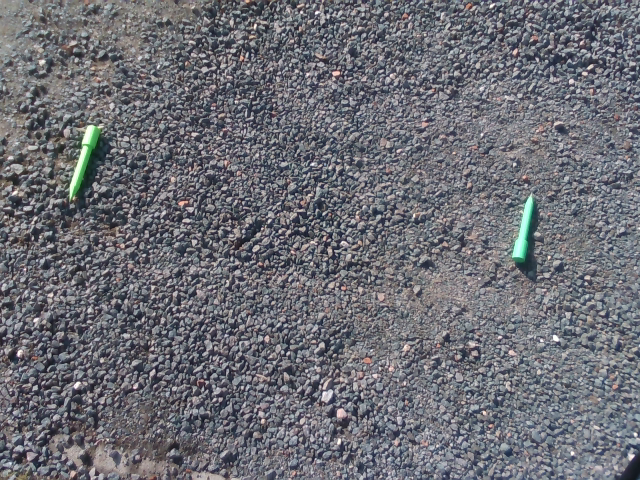Probe: (65, 121, 102, 206), (509, 189, 539, 268)
